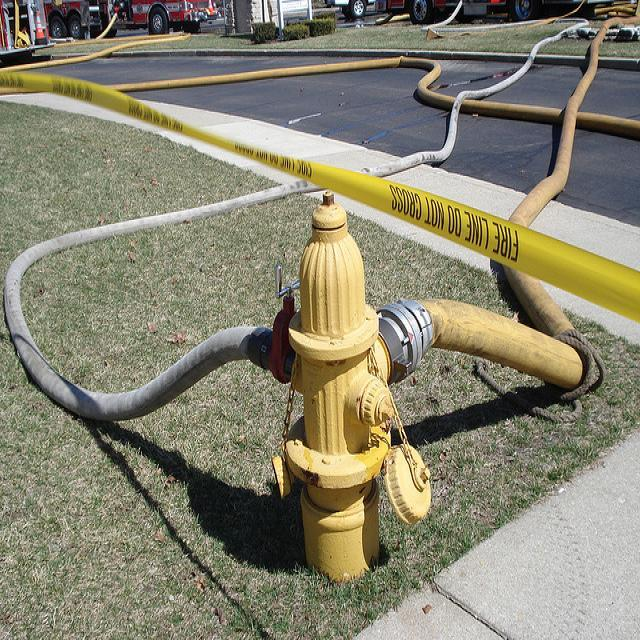fire_hydrant: (275, 192, 436, 582)
